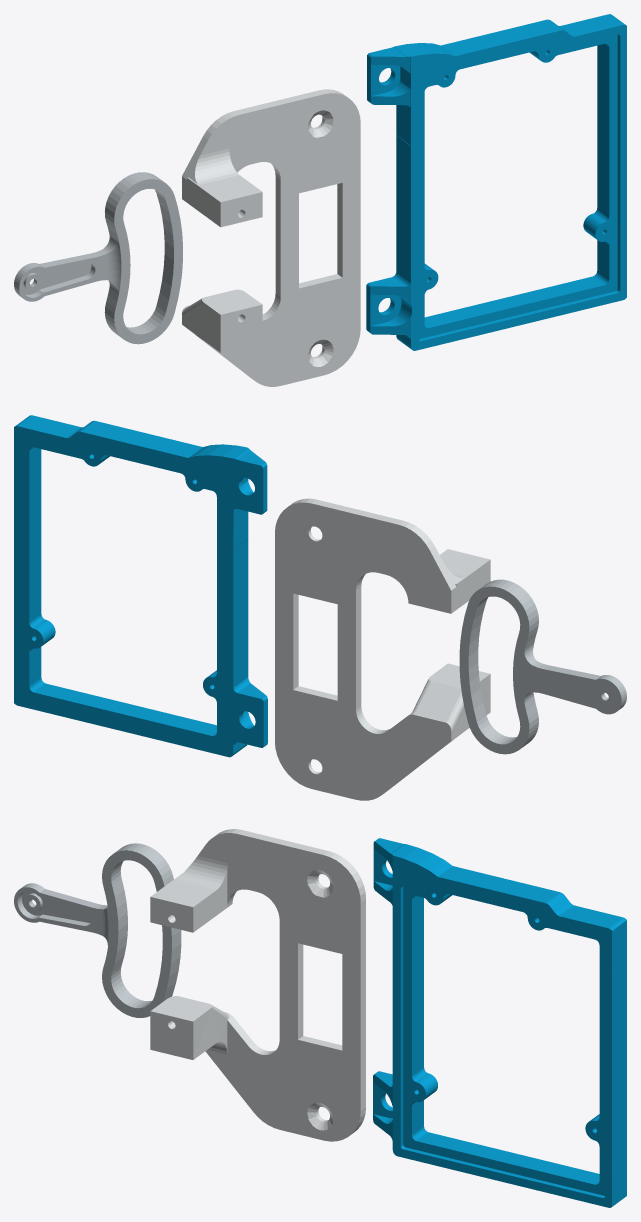
The model's file is tinker.obj.
3 renders of one model, top to bottom at view 1: azimuth 30°, elevation 25°; view 2: azimuth 150°, elevation 25°; view 3: azimuth 330°, elevation 25°, orthographic.
Visible parts, largest first — view 1: group_0_14541540, group_0_40919, group_0_12568524; view 2: group_0_14541540, group_0_40919, group_0_12568524; view 3: group_0_14541540, group_0_40919, group_0_12568524.
Boxes of the visible parts, x1,y1,x2,y2 form: group_0_14541540: [182, 89, 360, 386]; group_0_40919: [366, 14, 626, 350]; group_0_12568524: [14, 172, 182, 344]; group_0_14541540: [275, 498, 490, 800]; group_0_40919: [14, 415, 267, 757]; group_0_12568524: [459, 579, 626, 754]; group_0_14541540: [150, 829, 365, 1141]; group_0_40919: [373, 838, 626, 1207]; group_0_12568524: [14, 843, 181, 1017].
Bounding box in the file's own units: 165 × 80.66 × 18.5.
